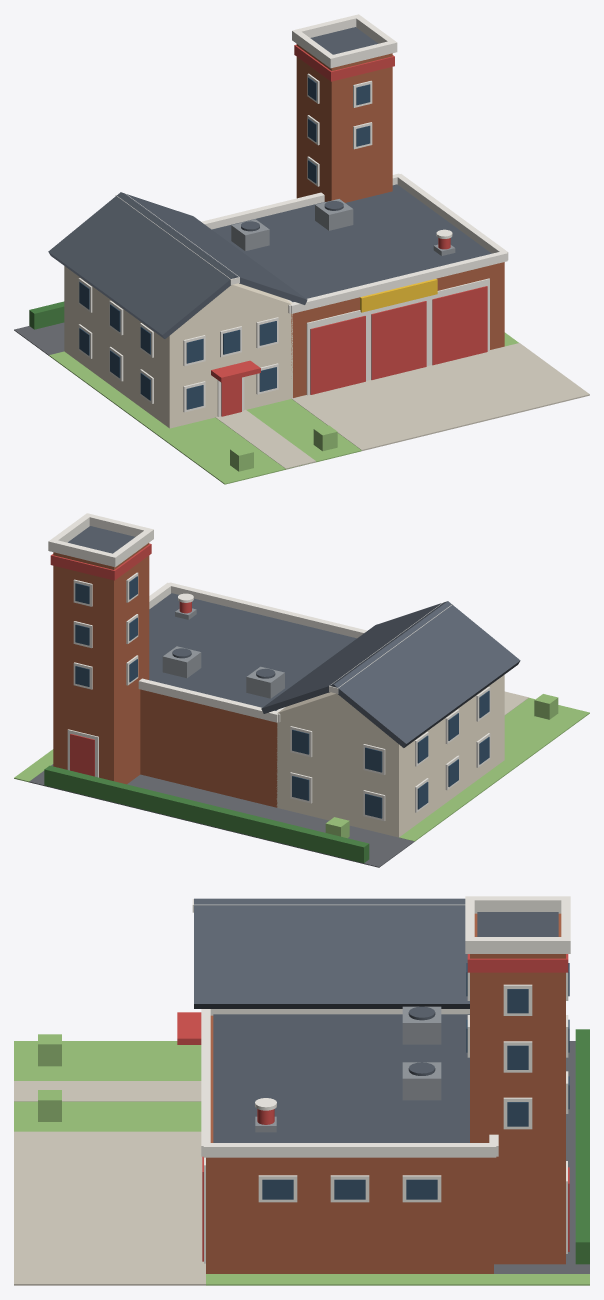
File: firestation.glb
3 renders of one model, top to bottom at view 1: azimuth 30°, elevation 25°; view 2: azimuth 150°, elevation 25°; view 3: azimuth 270°, elevation 25°, orthographic. The views are drawn at different scales.
Visible parts, largest first — view 1: roof (×2), apron, bay_roof, crew_block, garage_door (×3), drill_tower, lawn_front, bay_parapet (×3), bay_block, garage_frame (×3), crew_gable, path (+10 smaller); view 2: roof (×2), crew_block, drill_tower, bay_roof, bay_block, hedge, yard, bay_parapet (×2), lawn_front, tower_parapet (×4), crew_gable, lawn_right (+6 smaller); view 3: bay_block, roof, bay_roof, apron, drill_tower, lawn_front, bay_parapet (×3), lawn_left, tower_parapet (×4), window_glass (×6), path, hedge (+8 smaller).
Part boxes in pixels (box(x1,y1,x2,y2)): roof (×2): box(48, 192, 307, 338); apron: box(291, 343, 589, 450); bay_roof: box(212, 184, 491, 301); crew_block: box(64, 266, 292, 428); garage_door (×3): box(310, 286, 487, 394); drill_tower: box(296, 44, 392, 202); lawn_front: box(154, 399, 361, 484); bay_parapet (×3): box(201, 173, 508, 313); bay_block: box(291, 262, 504, 397); garage_frame (×3): box(306, 278, 489, 395); crew_gable: box(173, 283, 290, 332); path: box(215, 409, 315, 469); roof (×2): box(261, 601, 520, 747); crew_block: box(276, 675, 504, 837); drill_tower: box(53, 543, 149, 784); bay_roof: box(149, 593, 356, 710); bay_block: box(140, 689, 277, 807); hedge: box(44, 765, 369, 863); yard: box(29, 764, 414, 867); bay_parapet (×2): box(138, 582, 367, 722); lawn_front: box(504, 697, 589, 764); tower_parapet (×4): box(48, 513, 153, 567); crew_gable: box(277, 692, 395, 741); lawn_right: box(399, 760, 519, 841); bay_block: box(206, 1015, 493, 1273); roof: box(194, 898, 469, 1008); bay_roof: box(213, 1014, 469, 1142); apron: box(14, 1131, 205, 1285); drill_tower: box(470, 913, 565, 1264); lawn_front: box(14, 1041, 201, 1131); bay_parapet (×3): box(201, 1009, 496, 1157); lawn_left: box(206, 1274, 589, 1285); tower_parapet (×4): box(465, 896, 570, 953); window_glass (×6): box(262, 989, 528, 1199); path: box(14, 1081, 201, 1101); hedge: box(575, 1029, 589, 1264).
Size of the model in its own units: 24 by 15 by 24.
